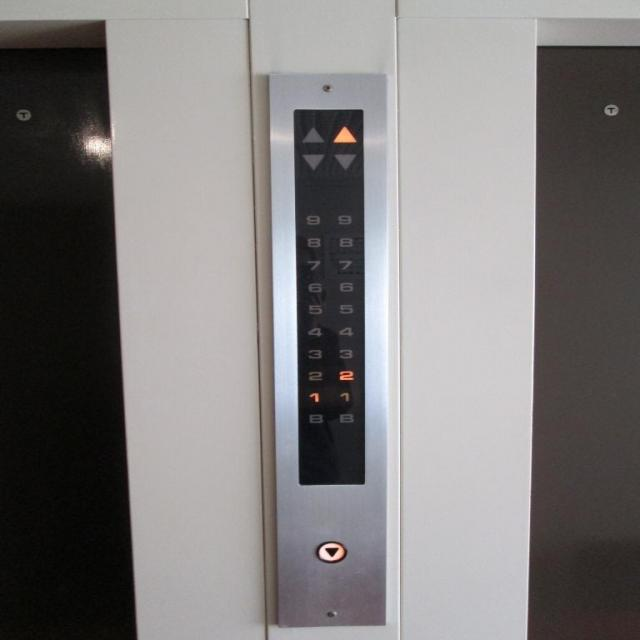down: (314, 537, 348, 565)
led: (288, 103, 368, 489)
